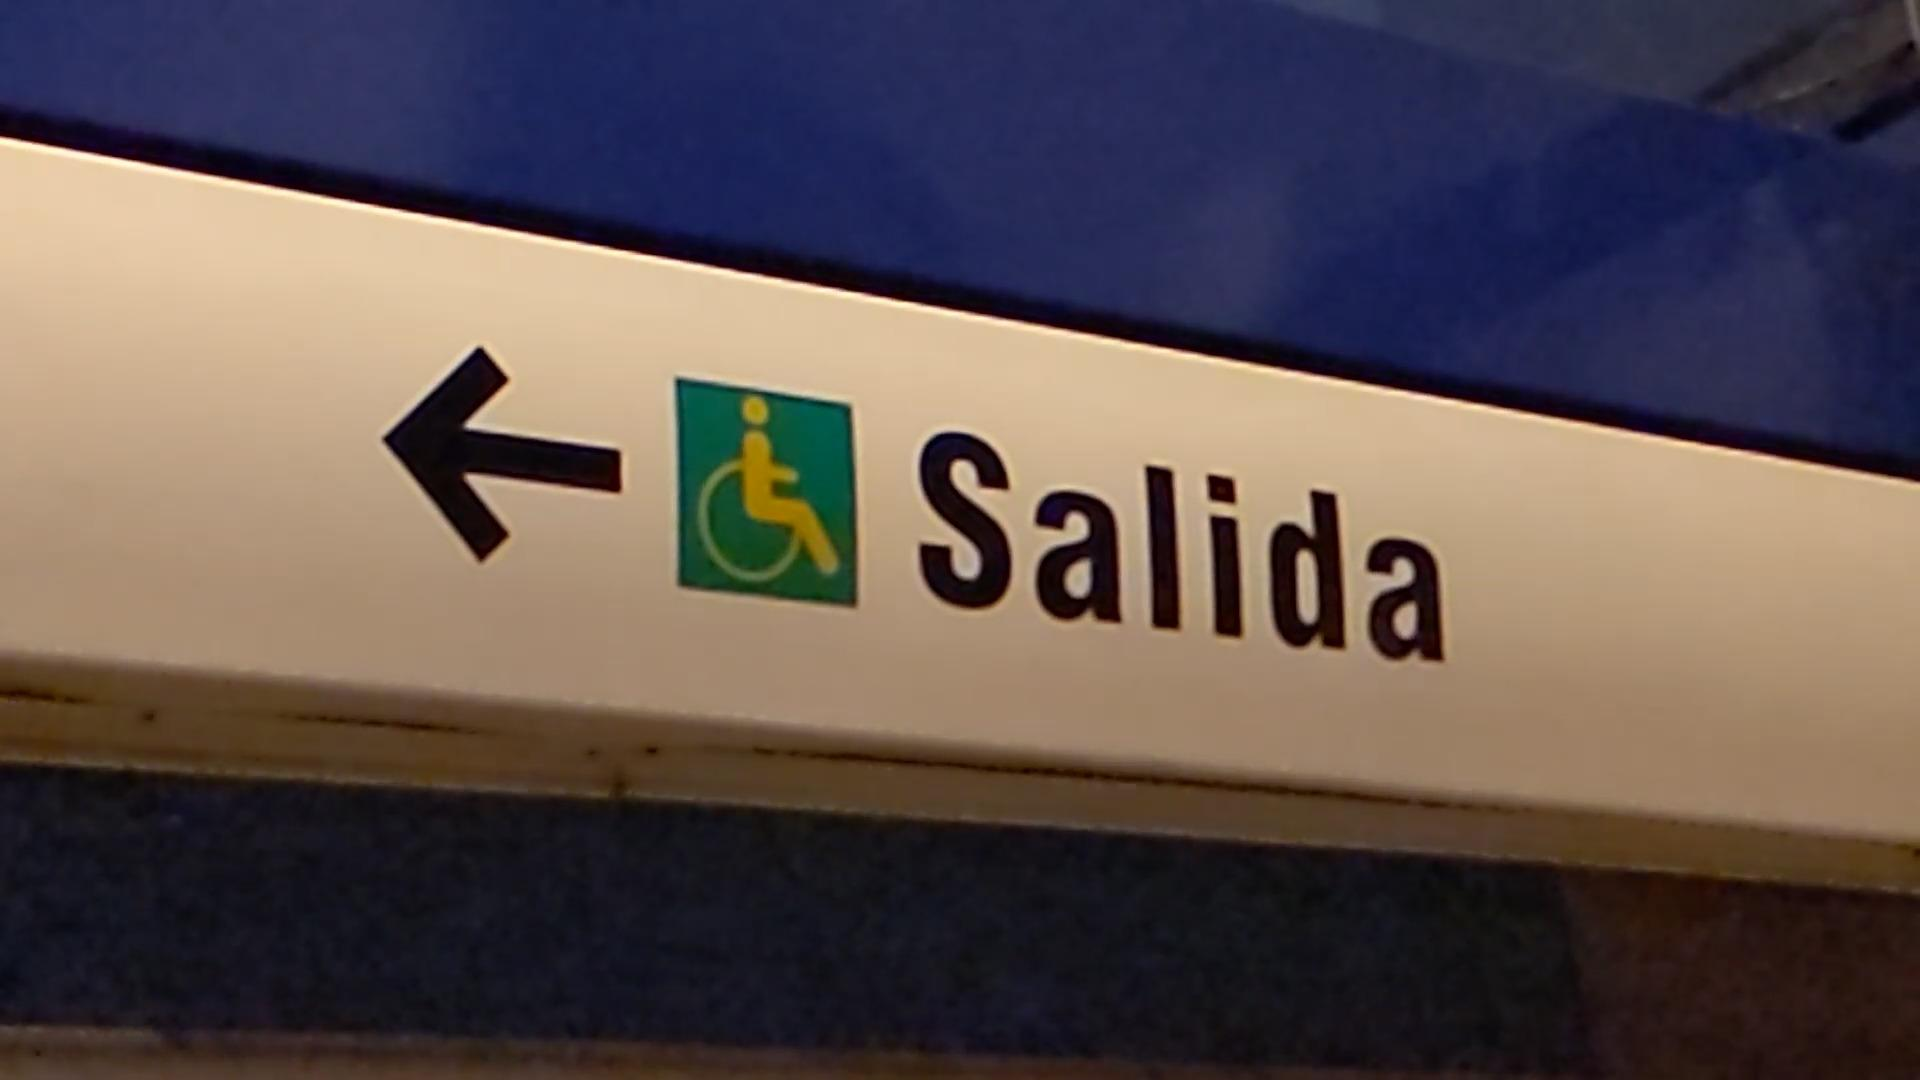handicapped symbol: (698, 392, 843, 582)
left arrow: (376, 342, 630, 570)
